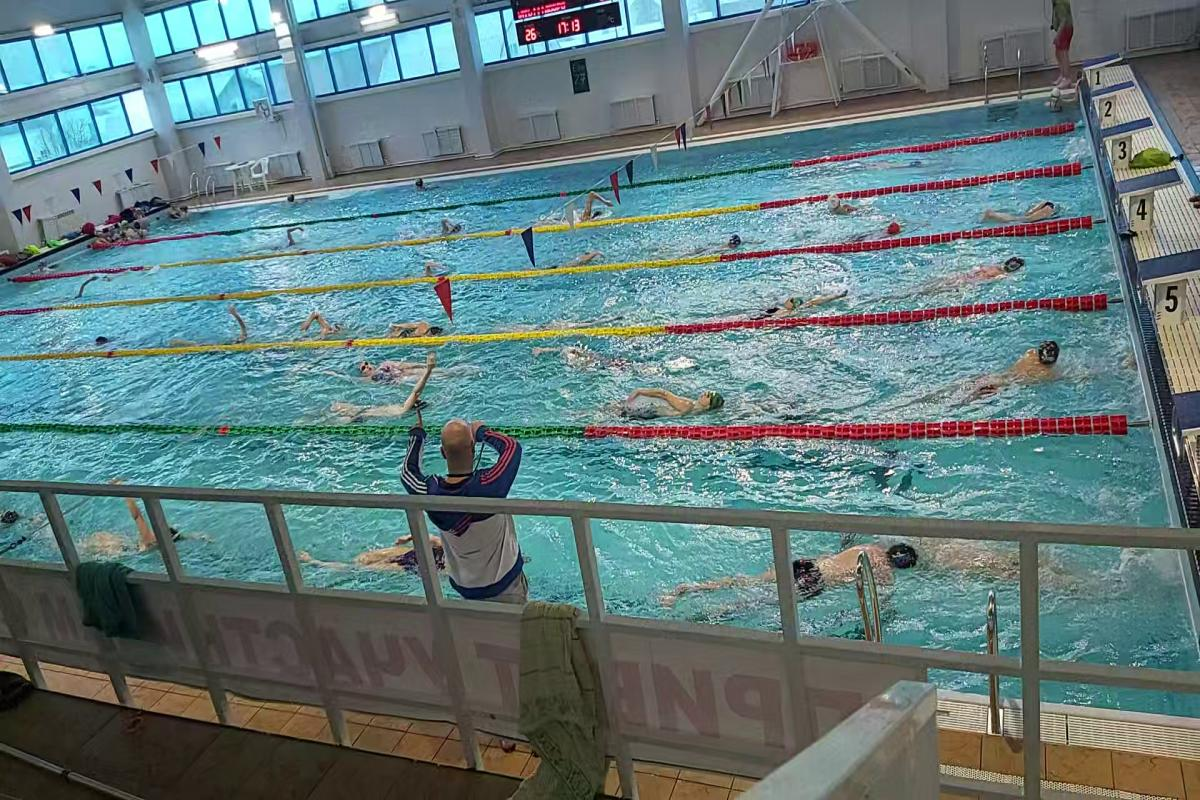swimmer: (675, 548, 925, 606), (944, 336, 1085, 405), (346, 360, 505, 398), (305, 539, 441, 582), (870, 258, 1024, 289), (614, 382, 742, 419), (71, 509, 159, 555), (716, 289, 870, 315), (311, 399, 430, 427), (532, 338, 636, 368), (804, 186, 872, 224), (364, 313, 452, 340), (215, 306, 266, 344), (986, 197, 1074, 218), (546, 242, 608, 270), (419, 207, 465, 240), (710, 226, 762, 254), (290, 307, 344, 333), (570, 199, 611, 230), (406, 171, 440, 203), (280, 222, 313, 248)
